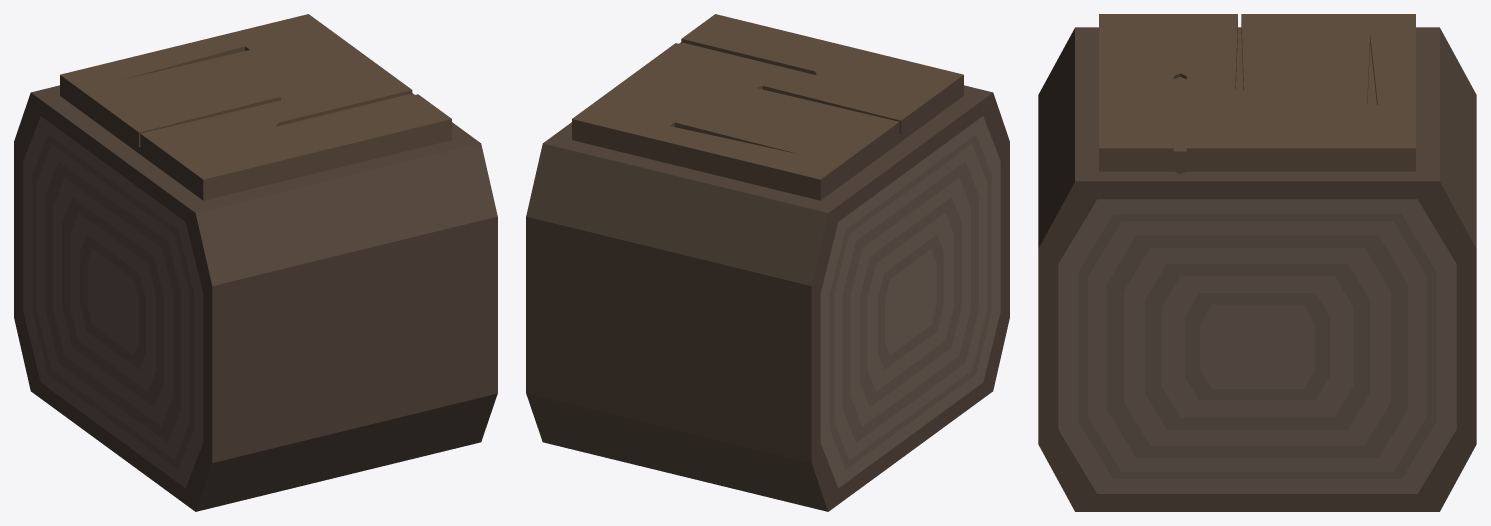
File: Center.fbx
The picture shows the model from 3 angles, left to right: view 1: azimuth 30°, elevation 25°; view 2: azimuth 150°, elevation 25°; view 3: azimuth 270°, elevation 25°; orthographic projection. The views are drawn at different scales.
Visible parts, largest first — view 1: Куб.021; view 2: Куб.021; view 3: Куб.021.
Part boxes in pixels (x1,y1,x2,y2): Куб.021: [14, 14, 497, 511]; Куб.021: [526, 14, 1009, 511]; Куб.021: [1038, 14, 1476, 511].
Bounding box in the file's own units: 14.93 × 15.99 × 17.94.
